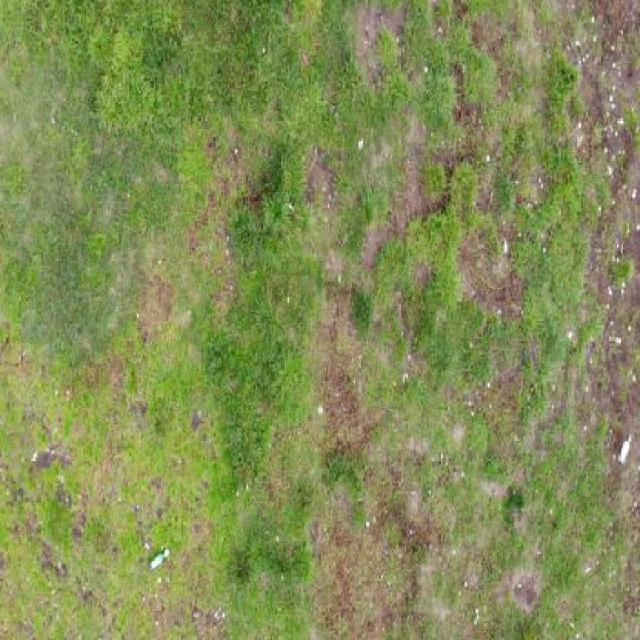Garbage: (147, 546, 171, 569), (618, 435, 632, 466)
